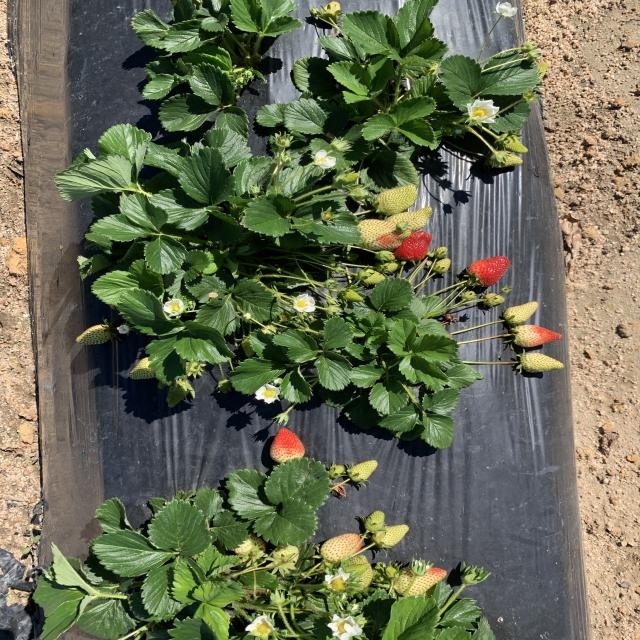unripe: (265, 425, 307, 463), (394, 228, 440, 261), (464, 255, 513, 285)
